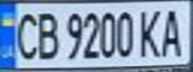0: (115, 7, 139, 58), (100, 7, 118, 60)
2: (81, 7, 103, 61)
9: (60, 8, 84, 61)
A: (157, 5, 187, 57)
B: (33, 8, 60, 61)
C: (6, 7, 42, 61)
K: (136, 7, 163, 58)
